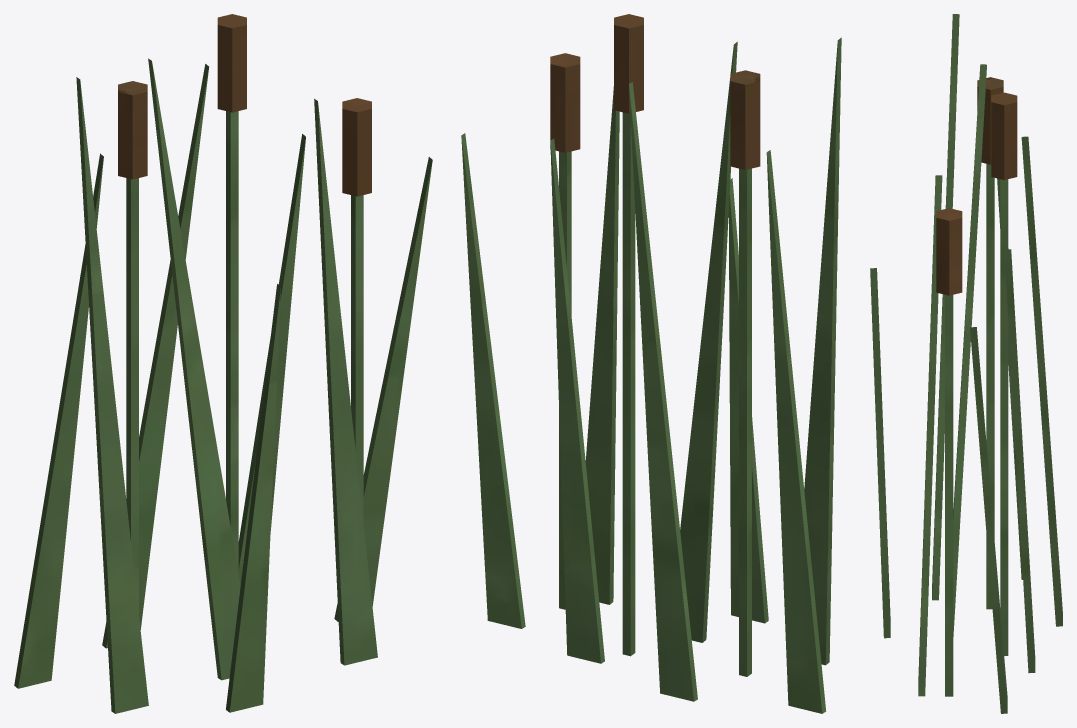
Rendered from reeds.glb.
3 views of the same model, side by side, from view 1: azimuth 30°, elevation 25°; view 2: azimuth 150°, elevation 25°; view 3: azimuth 270°, elevation 25° (orthographic). The views are drawn at different scales.
Parts seen in each view (by area): view 1: moat.reeds; view 2: moat.reeds; view 3: moat.reeds.
Part boxes in pixels (x1=…): moat.reeds: x1=14, y1=14, x2=432, y2=713; moat.reeds: x1=461, y1=14, x2=841, y2=713; moat.reeds: x1=870, y1=14, x2=1062, y2=713.
Bounding box in the file's own units: 0.575 × 0.9005 × 0.28.
Materials: 2 (2 with a texture image).
